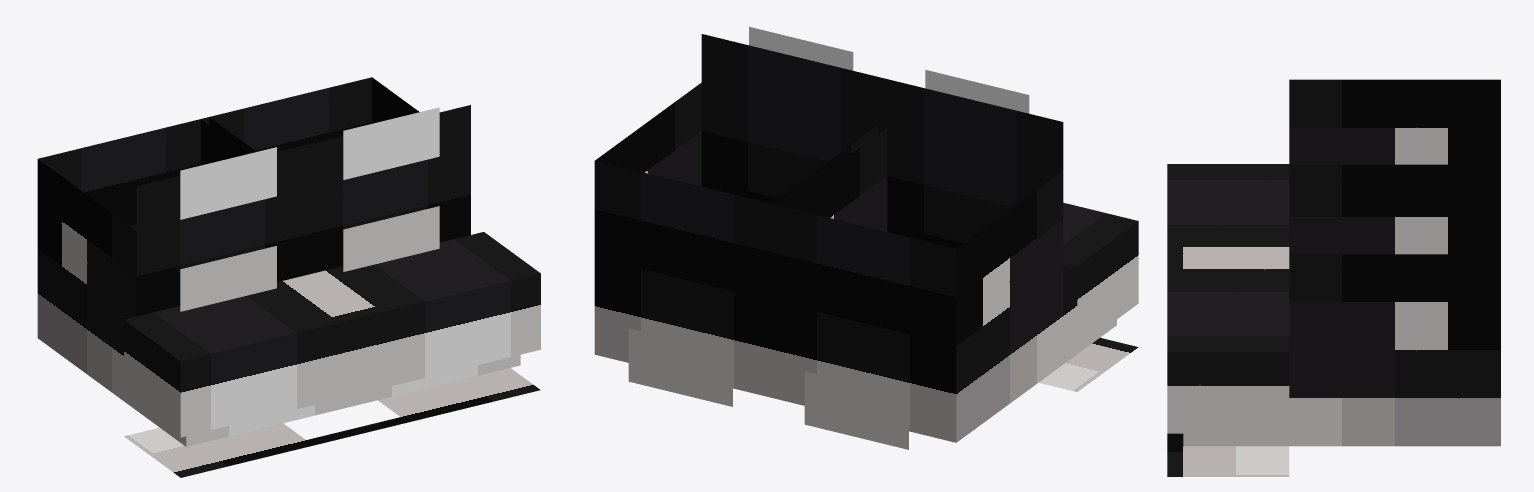
File: sl_sneakers.glb
The picture shows the model from 3 angles, left to right: view 1: azimuth 30°, elevation 25°; view 2: azimuth 150°, elevation 25°; view 3: azimuth 270°, elevation 25°; orthographic projection. The views are drawn at different scales.
Parts seen in each view (by area): view 1: bb_sneakers; view 2: bb_sneakers; view 3: bb_sneakers.
Part boxes in pixels (x1,y1,x2,y2): bb_sneakers: (37, 77, 540, 477); bb_sneakers: (594, 26, 1138, 449); bb_sneakers: (1167, 79, 1500, 476).
Bounding box in the file's own units: 0.5312 × 0.3594 × 0.4156.
1 material, 1 textured.
